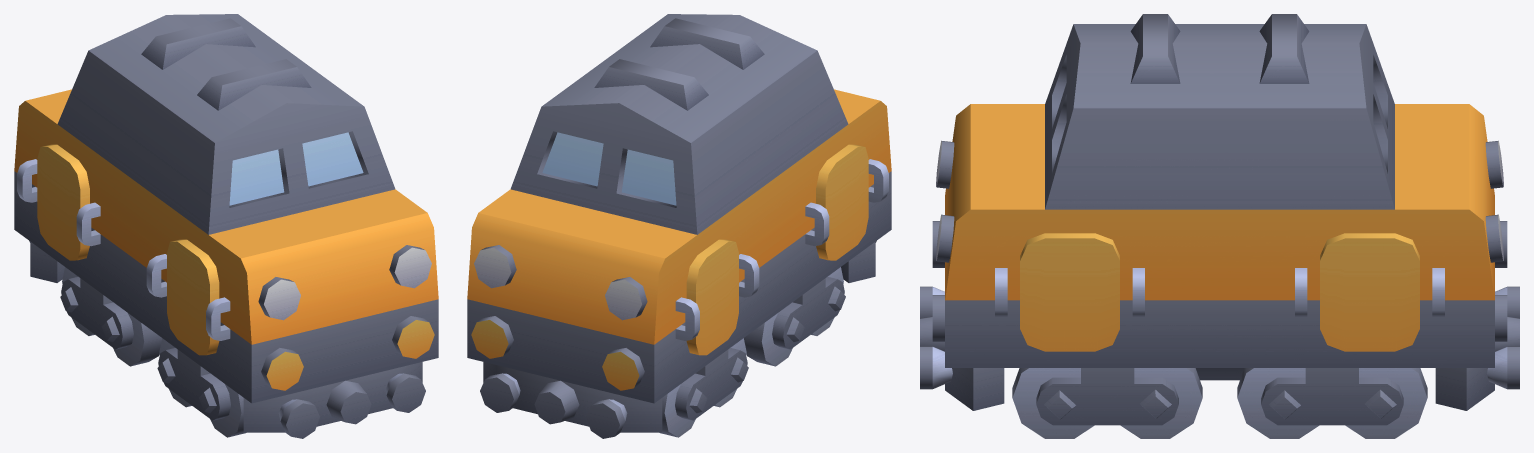
File: diesel_a.glb
3 renders of one model, left to right at view 1: azimuth 30°, elevation 25°; view 2: azimuth 150°, elevation 25°; view 3: azimuth 270°, elevation 25°, orthographic. The views are drawn at different scales.
Parts seen in each view (by area): view 1: train-diesel-a, wheels-back, wheels-front; view 2: train-diesel-a, wheels-front, wheels-back; view 3: train-diesel-a, wheels-front, wheels-back.
Boxes of the visible parts, x1,y1,x2,y2 form: train-diesel-a: [14, 14, 438, 438]; wheels-back: [60, 267, 161, 366]; wheels-front: [157, 338, 246, 437]; train-diesel-a: [467, 14, 891, 438]; wheels-front: [744, 267, 845, 366]; wheels-back: [659, 338, 748, 437]; train-diesel-a: [920, 14, 1519, 410]; wheels-front: [1012, 368, 1202, 438]; wheels-back: [1237, 368, 1427, 438].
Bounding box in the file's own units: 1.2 × 1.6 × 2.4.
Materials: 1 (1 with a texture image).
